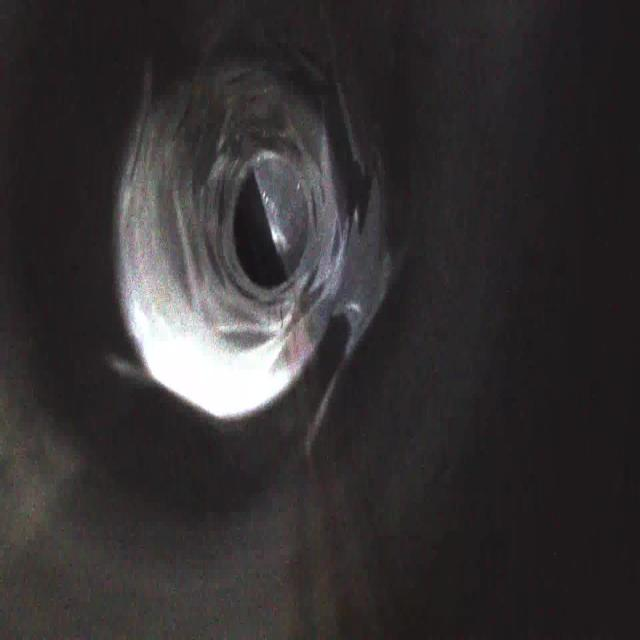crack: (155, 186, 221, 305), (319, 172, 363, 291), (214, 60, 267, 142), (211, 313, 282, 363)
